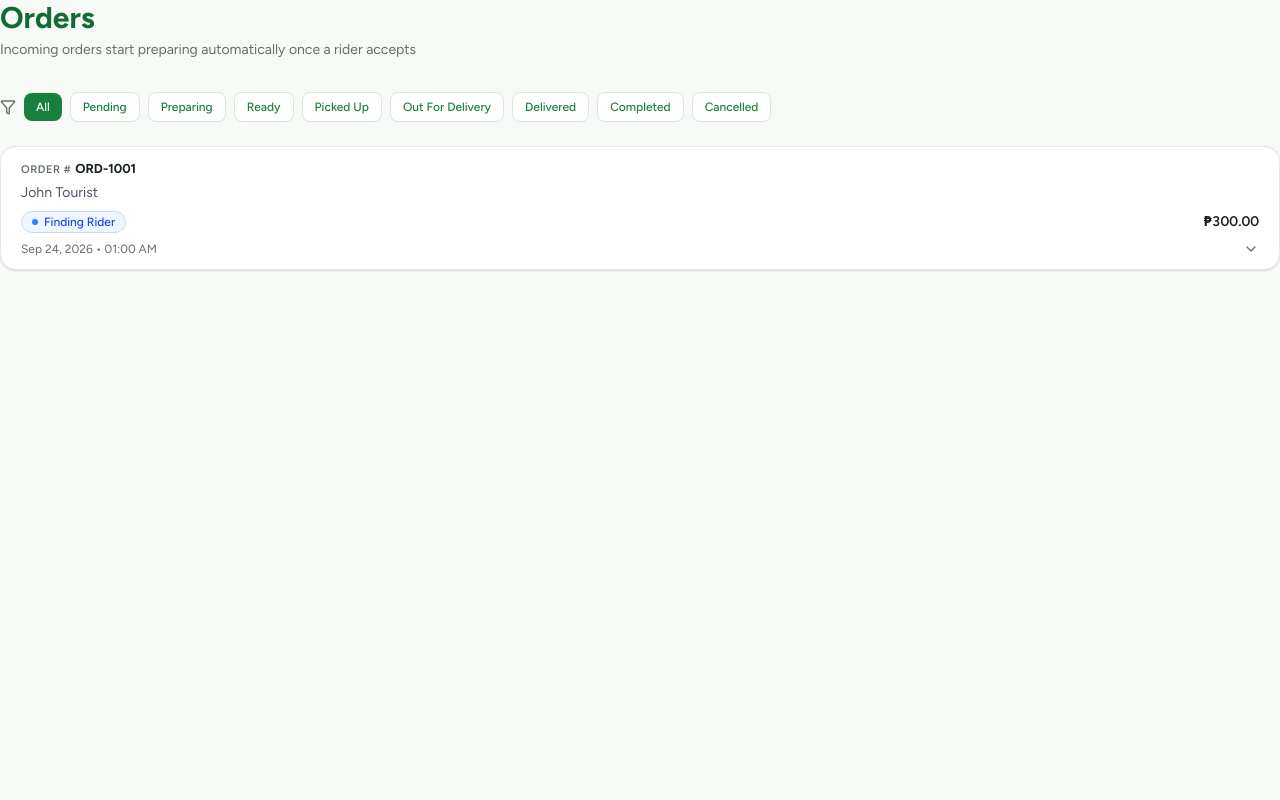
Test case: BusinessOwnerOrders — live updates from the authorized business room › still loads via HTTP when no business is selected (socket never opened)
Expected: the text "Finding Rider" is shown, [21,210,126,232]
Click the button "ORD-1001". click: click(640, 208)
box: [1,147,1279,268]
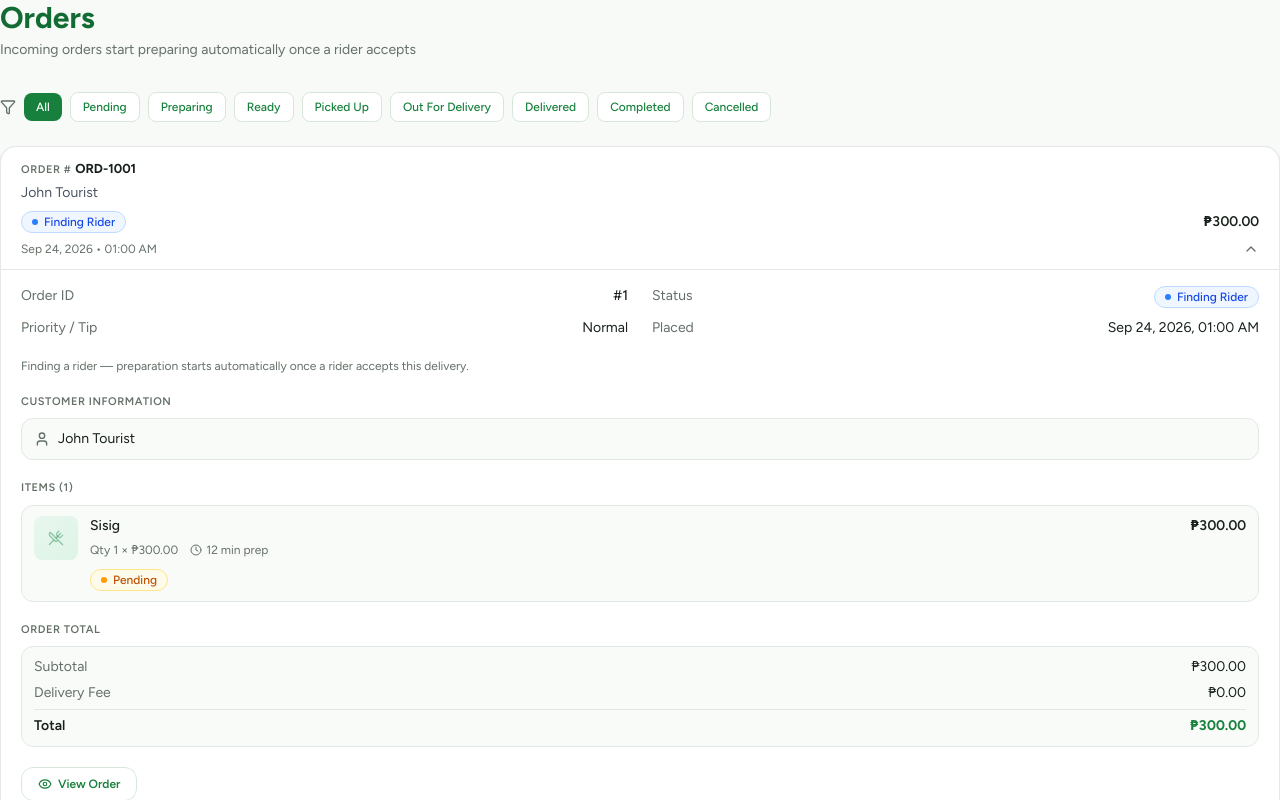
Now the heading "Customer Information" is shown, box [21,394,171,408]
